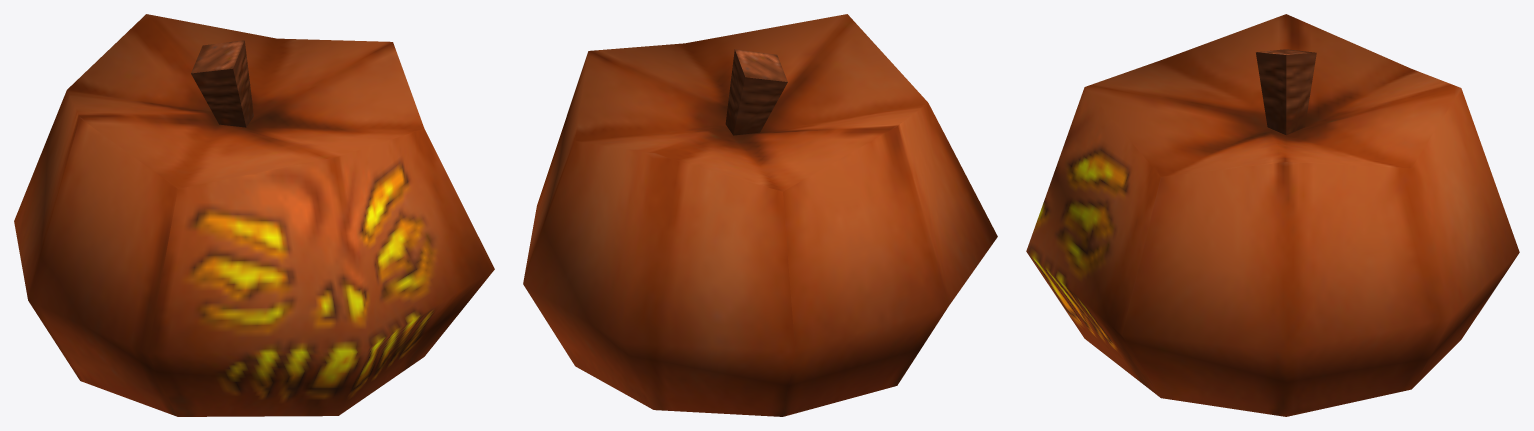
File: nangua.DAE
3 views of the same model, side by side, from view 1: azimuth 30°, elevation 25°; view 2: azimuth 150°, elevation 25°; view 3: azimuth 270°, elevation 25° (orthographic). The views are drawn at different scales.
Parts seen in each view (by area): view 1: Box08; view 2: Box08; view 3: Box08.
Boxes of the visible parts, x1,y1,x2,y2 form: Box08: [14, 14, 494, 416]; Box08: [523, 14, 997, 416]; Box08: [1026, 14, 1519, 416].
Bounding box in the file's own units: 69.51 × 73.44 × 47.89.
